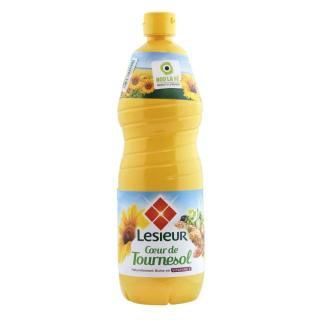Plastic-bottle: (113, 8, 213, 309)
